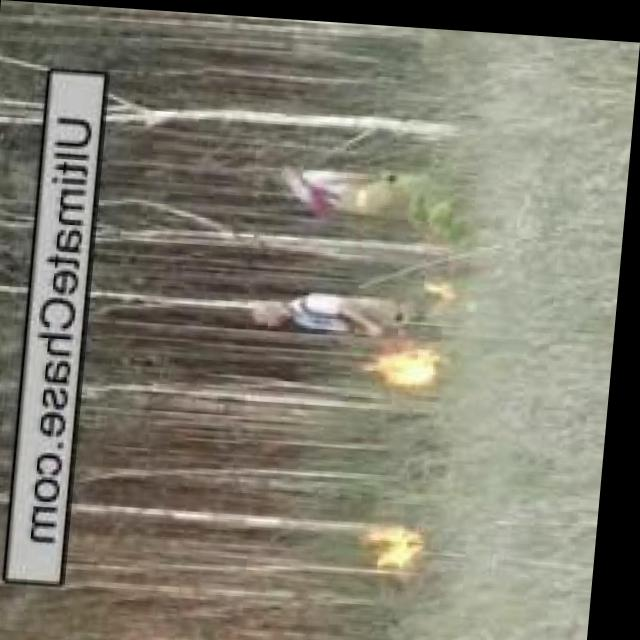Fire: (363, 515, 435, 571), (367, 343, 453, 381), (421, 267, 469, 296)
